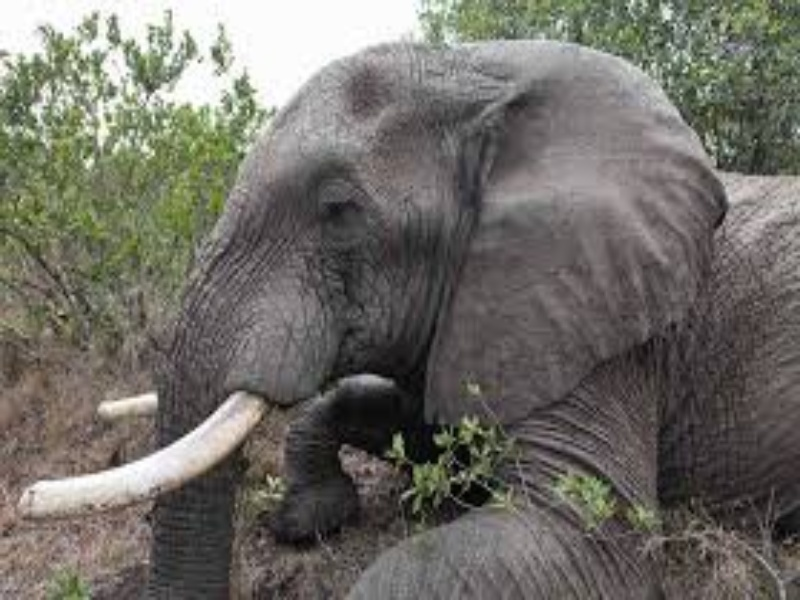elephant: (1, 41, 800, 591)
